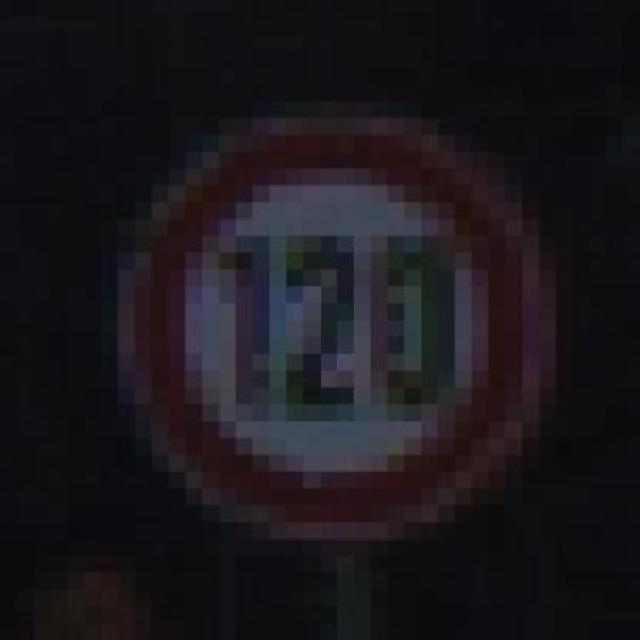forb_speed_over_120: (157, 129, 526, 523)
